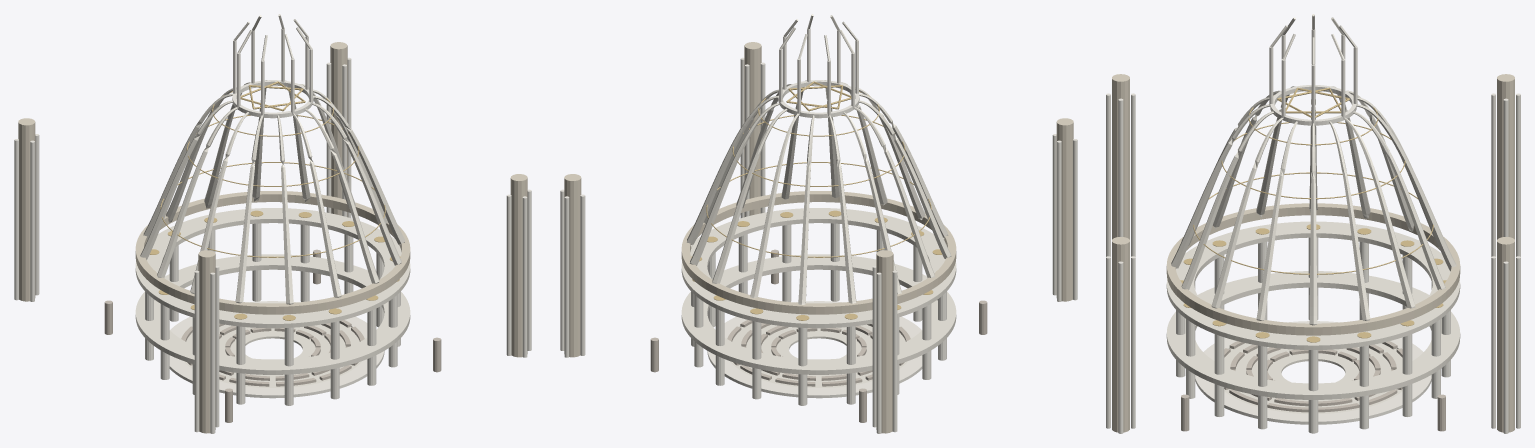
File: 02_communion_crown.glb
3 views of the same model, side by side, from view 1: azimuth 30°, elevation 25°; view 2: azimuth 150°, elevation 25°; view 3: azimuth 270°, elevation 25° (orthographic). The views are drawn at different scales.
Visible parts, largest first — view 1: batch_marble, batch_pale, batch_ashlar, batch_aged, batch_gold; view 2: batch_marble, batch_pale, batch_ashlar, batch_aged, batch_gold; view 3: batch_marble, batch_pale, batch_ashlar, batch_aged, batch_gold.
Boxes of the visible parts, x1=… form: batch_marble: x1=135, y1=14, x2=410, y2=387; batch_pale: x1=14, y1=28, x2=531, y2=433; batch_ashlar: x1=18, y1=42, x2=527, y2=433; batch_aged: x1=104, y1=249, x2=441, y2=422; batch_gold: x1=149, y1=81, x2=400, y2=320; batch_marble: x1=681, y1=14, x2=956, y2=387; batch_pale: x1=560, y1=28, x2=1077, y2=433; batch_ashlar: x1=564, y1=42, x2=1073, y2=433; batch_aged: x1=650, y1=249, x2=987, y2=422; batch_gold: x1=691, y1=81, x2=942, y2=320; batch_marble: x1=1166, y1=14, x2=1460, y2=413; batch_pale: x1=1106, y1=29, x2=1520, y2=433; batch_ashlar: x1=1112, y1=74, x2=1514, y2=432; batch_aged: x1=1181, y1=341, x2=1445, y2=431; batch_gold: x1=1180, y1=87, x2=1446, y2=342.
Bounding box in the file's own units: 90.5 × 84.16 × 90.47.
